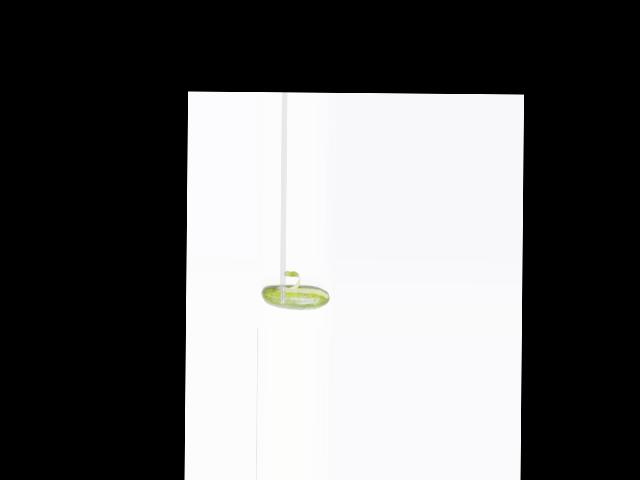cucumber: (260, 283, 329, 309)
